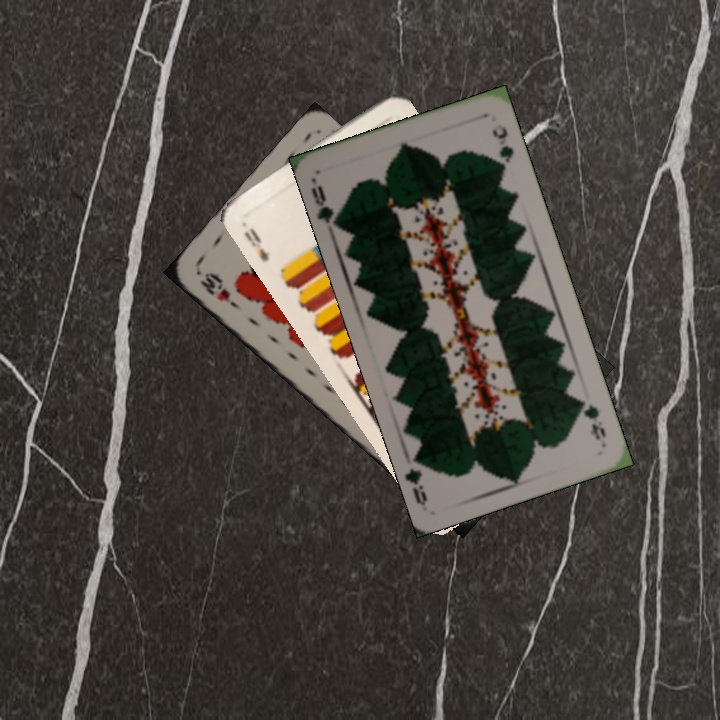E9: (240, 223, 274, 265)
G9: (307, 180, 343, 231), (574, 395, 609, 445)
H10: (195, 268, 243, 313)
